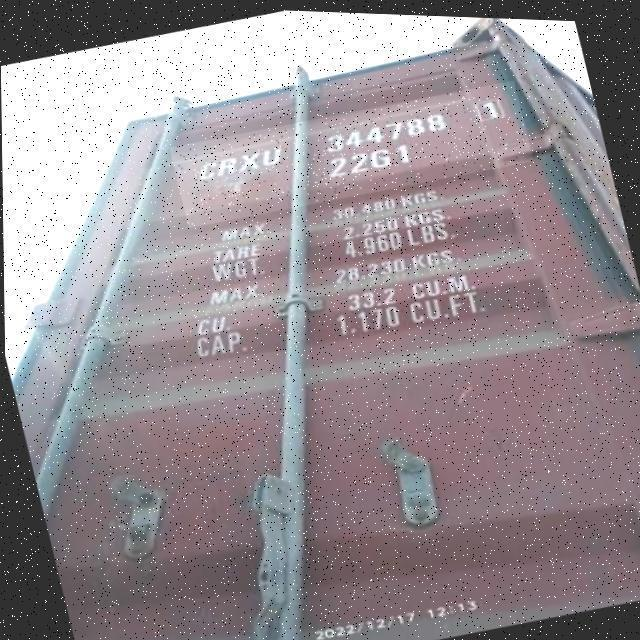container_number_h: (168, 66, 534, 236)
